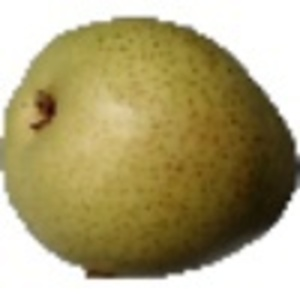pera: (1, 14, 300, 282)
